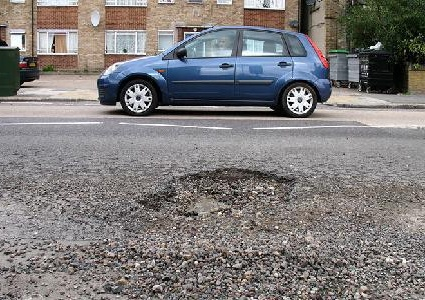pothole: (136, 164, 298, 219)
